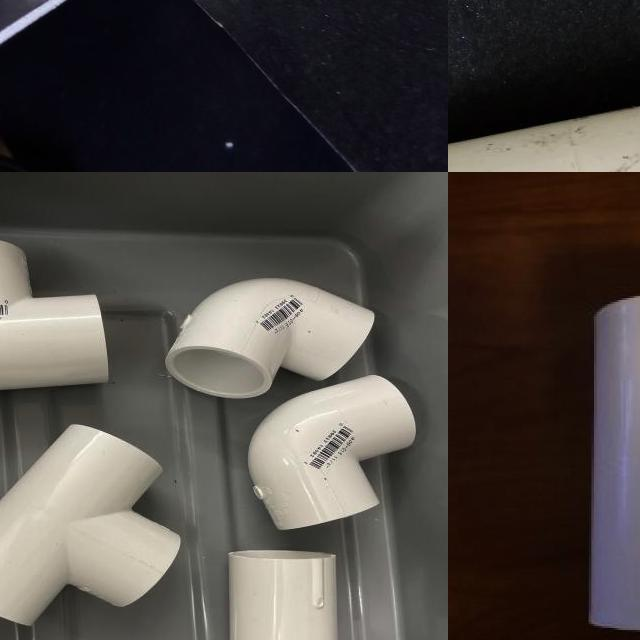L Joint: (246, 376, 423, 533), (164, 278, 377, 401)
T Joint: (0, 424, 182, 627), (586, 297, 640, 635), (0, 240, 110, 395), (448, 106, 640, 172)
